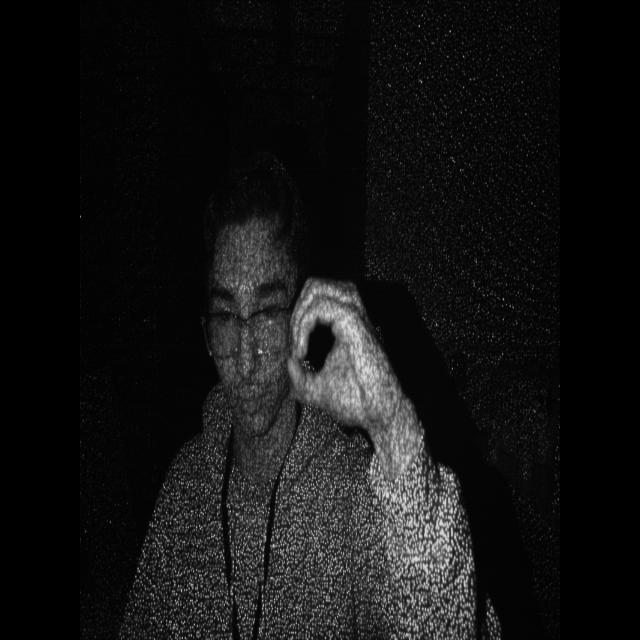O: (282, 258, 426, 430)
